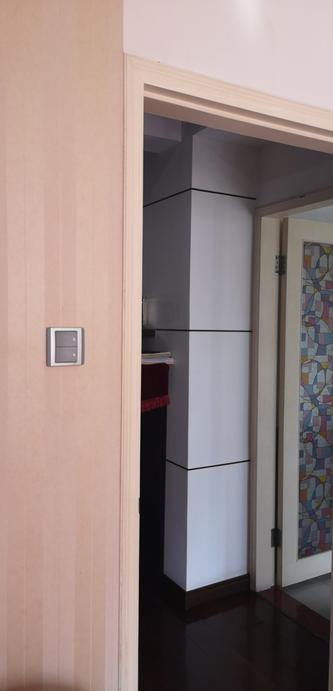switch: (48, 346, 85, 363), (52, 330, 80, 350)
